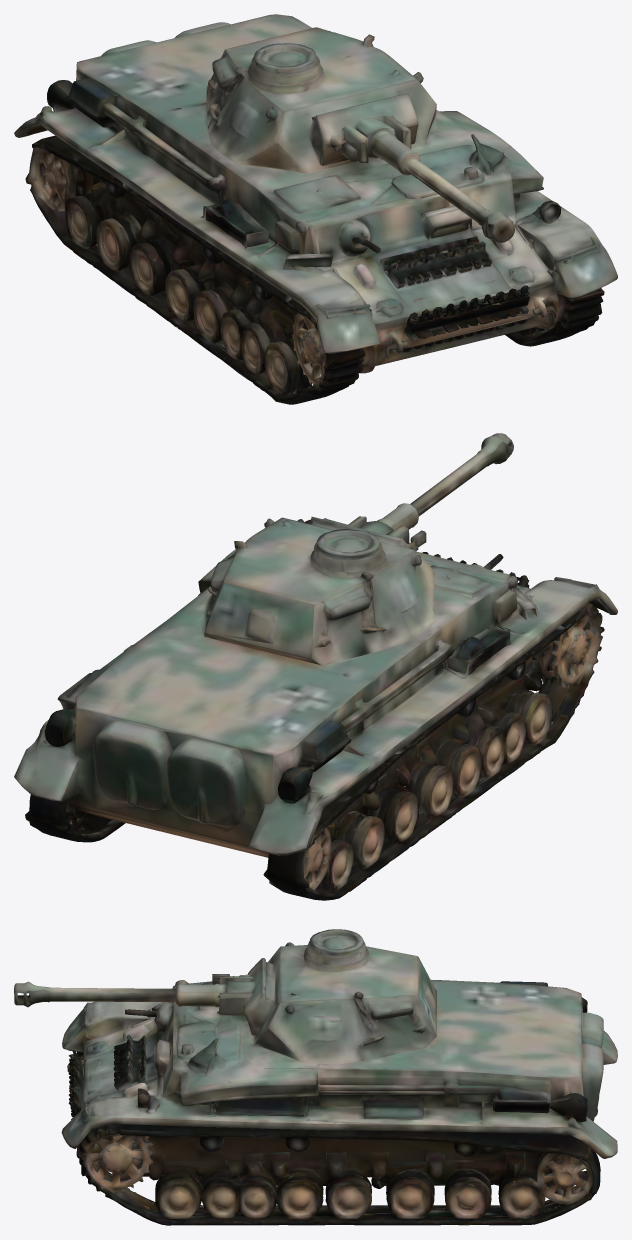
File: pz4_opt.glb
The picture shows the model from 3 angles, top to bottom: view 1: azimuth 30°, elevation 25°; view 2: azimuth 150°, elevation 25°; view 3: azimuth 270°, elevation 25°; orthographic projection. The views are drawn at different scales.
Visible parts, largest first — view 1: node_0; view 2: node_0; view 3: node_0.
Part boxes in pixels (left/top/right/bottom): node_0: left=14, top=14, right=617, bottom=404; node_0: left=14, top=433, right=617, bottom=900; node_0: left=14, top=929, right=617, bottom=1225.
Size of the model in its own units: 0.5348 by 0.436 by 1.1.
Materials: 1 (1 with a texture image).
